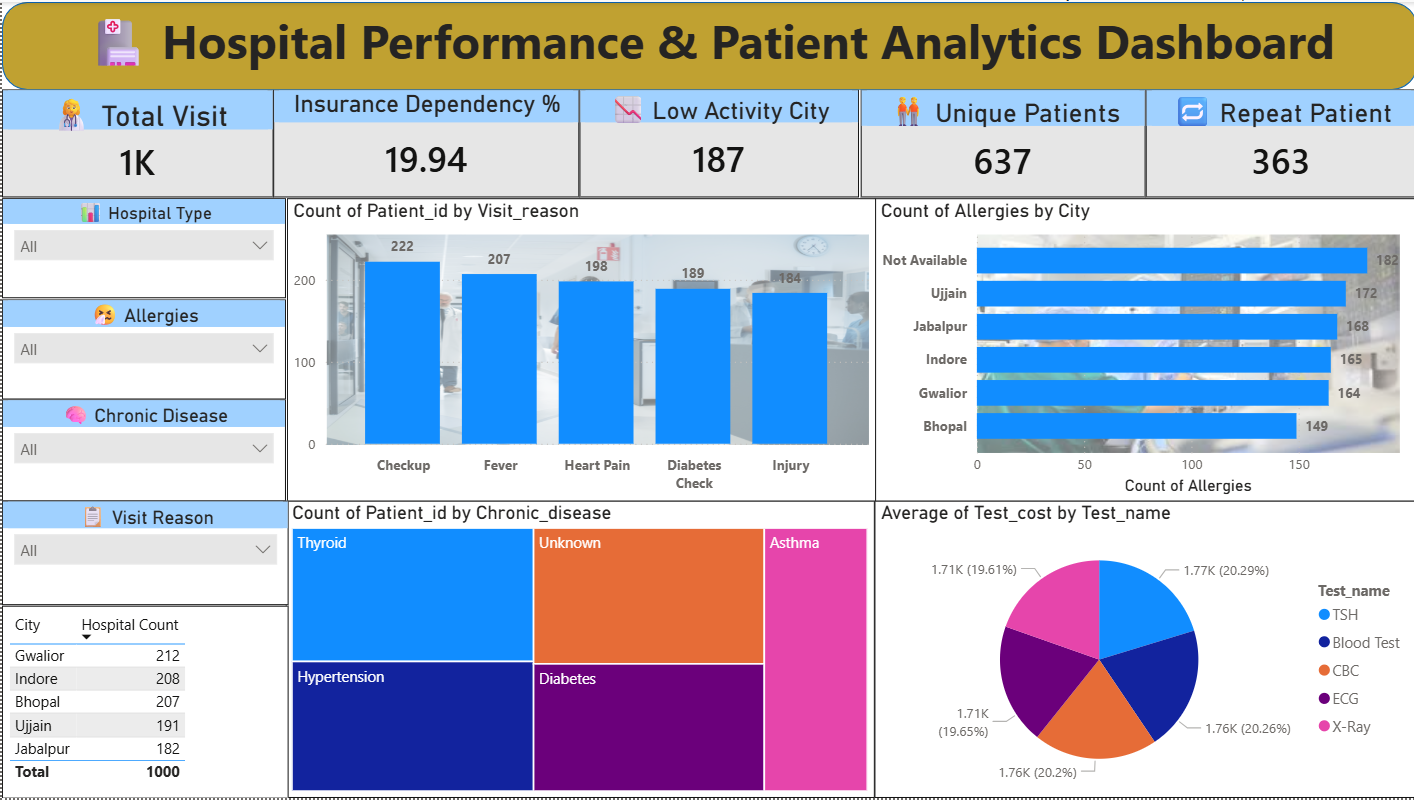

This screenshot's page, from the dashboard's own definition file:
{"tool":"powerbi","page":{"name":"Hospital Overview","canvas":[1280,720],"ordinal":0},"visuals":[{"type":"clusteredBarChart","fields":{"Category":["medical_cost_prediction patients.City"],"Y":["CountNonNull(medical_history.Allergies)"]},"box":[789,177,491.3,274.4],"z":0},{"type":"pieChart","title":"Average of Test cost by Test name","fields":{"Category":["lab_test.Test_name"],"Y":["Avg(lab_test.Test_cost)"]},"box":[789,451.5,491.3,269],"z":1000},{"type":"columnChart","title":"Count of Patient by Visit reason","fields":{"Category":["hospital_visit.Visit_reason"],"Y":["CountNonNull(hospital_visit.Patient_id)"]},"box":[258,177,532.4,274.4],"z":2000},{"type":"treemap","title":"Count of Patient by Chronic disease","fields":{"Group":["medical_history.Chronic_disease"],"Values":["CountNonNull(patients.Patient_id)"]},"box":[256.6,451.5,532.4,269],"z":3000},{"type":"slicer","title":"📊 Hospital Type","fields":{"Values":["medical_cost_prediction hospitals.Hospital_type"]},"box":[0,177,256.6,90.6],"z":4000},{"type":"slicer","title":"🤧 Allergies","fields":{"Values":["medical_cost_prediction medical_history.Allergies"]},"box":[0,269,256.6,90.6],"z":5000},{"type":"slicer","title":"🧠   Chronic Disease","fields":{"Values":["medical_cost_prediction medical_history.Chronic_disease"]},"box":[0,359.5,256.6,91.9],"z":6000},{"type":"slicer","title":"📋 Visit Reason","fields":{"Values":["medical_cost_prediction hospital_visit.Visit_reason"]},"box":[0,451.5,259.3,94.7],"z":7000},{"type":"tableEx","fields":{"Values":["hospitals.City","hospitals.Hospital Count"]},"box":[0,546.1,259.3,174.3],"z":8000},{"type":"cardVisual","title":"👩⚕️ Total Visit","fields":{"Data":["hospital_visit.Total Visits"]},"box":[0,79.6,245.6,97.4],"z":9000},{"type":"cardVisual","title":"Insurance Dependency %","fields":{"Data":["hospital_visit.Insurance Dependency"]},"box":[245.6,79.6,277.2,97.4],"z":10000},{"type":"cardVisual","title":"📉 Low Activity City ","fields":{"Data":["hospital_visit.Min City Visits"]},"box":[522.8,79.6,252.5,97.4],"z":11000},{"type":"cardVisual","title":"🧑🤝🧑 Unique Patients ","fields":{"Data":["hospital_visit.Unique Patients"]},"box":[776.7,79.6,258,97.4],"z":12000},{"type":"cardVisual","title":"🔁 Repeat Patient","fields":{"Data":["hospital_visit.Repeat Patients"]},"box":[1034.7,79.6,245.6,97.4],"z":13000},{"type":"shape","box":[0,0,1280.3,79.6],"z":14000},{"type":"textbox","box":[0,0,1232.4,79.1],"z":15000}]}

Visuals, with their boxes in screenshot pixels (x1, y1, x2, y2), scaled from the page's 1280x720 canvas onto the 1414x800 screenshot:
clusteredBarChart - medical_cost_prediction patients.City x CountNonNull(medical_history.Allergies): box=[872, 197, 1413, 502]
"Average of Test cost by Test name" pieChart: box=[872, 502, 1413, 799]
"Count of Patient by Visit reason" columnChart: box=[285, 197, 873, 502]
"Count of Patient by Chronic disease" treemap: box=[283, 502, 872, 799]
"📊 Hospital Type" slicer: box=[0, 197, 283, 297]
"🤧 Allergies" slicer: box=[0, 299, 283, 400]
"🧠   Chronic Disease" slicer: box=[0, 399, 283, 502]
"📋 Visit Reason" slicer: box=[0, 502, 286, 607]
tableEx - hospitals.City x hospitals.Hospital Count: box=[0, 607, 286, 799]
"👩⚕️ Total Visit" cardVisual: box=[0, 88, 271, 197]
"Insurance Dependency %" cardVisual: box=[271, 88, 578, 197]
"📉 Low Activity City " cardVisual: box=[578, 88, 856, 197]
"🧑🤝🧑 Unique Patients " cardVisual: box=[858, 88, 1143, 197]
"🔁 Repeat Patient" cardVisual: box=[1143, 88, 1413, 197]
shape: box=[0, 0, 1413, 88]
textbox: box=[0, 0, 1361, 88]
